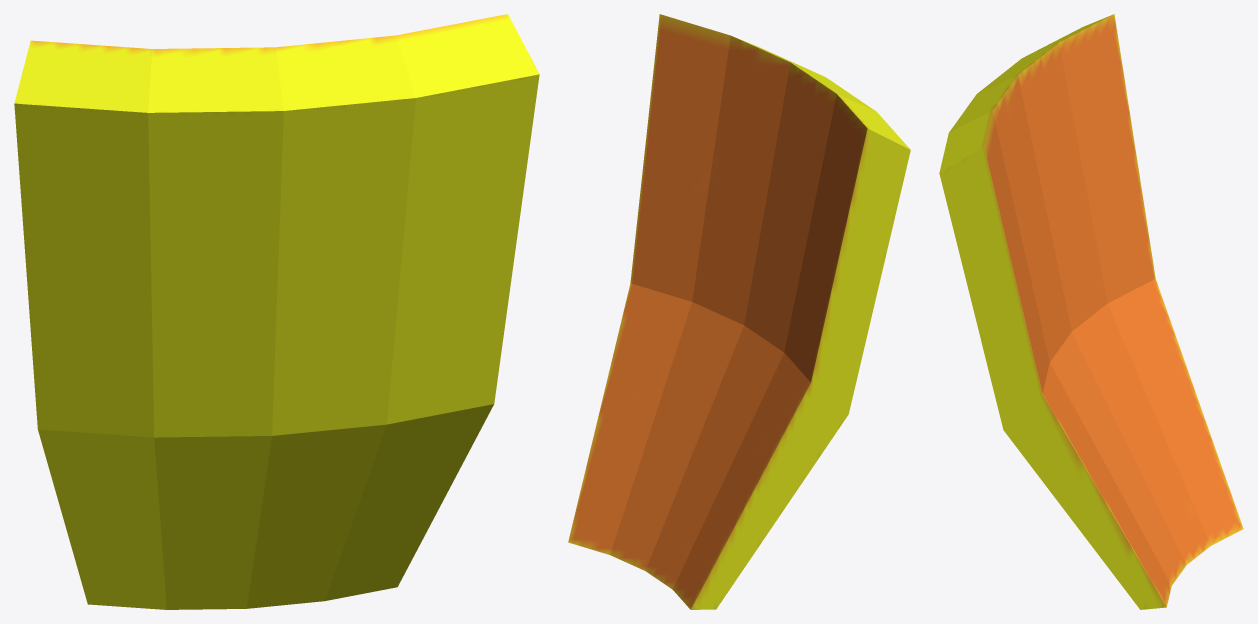
File: Level_3_3.obj
3 views of the same model, side by side, from view 1: azimuth 30°, elevation 25°; view 2: azimuth 150°, elevation 25°; view 3: azimuth 270°, elevation 25° (orthographic). The views are drawn at different scales.
Visible parts, largest first — view 1: Level_3_3_Cylinder.039; view 2: Level_3_3_Cylinder.039; view 3: Level_3_3_Cylinder.039.
Boxes of the visible parts, x1,y1,x2,y2 form: Level_3_3_Cylinder.039: [14, 14, 539, 609]; Level_3_3_Cylinder.039: [568, 14, 910, 609]; Level_3_3_Cylinder.039: [939, 14, 1243, 609].
Size of the model in its own units: 1.51 by 2.23 by 1.33.
